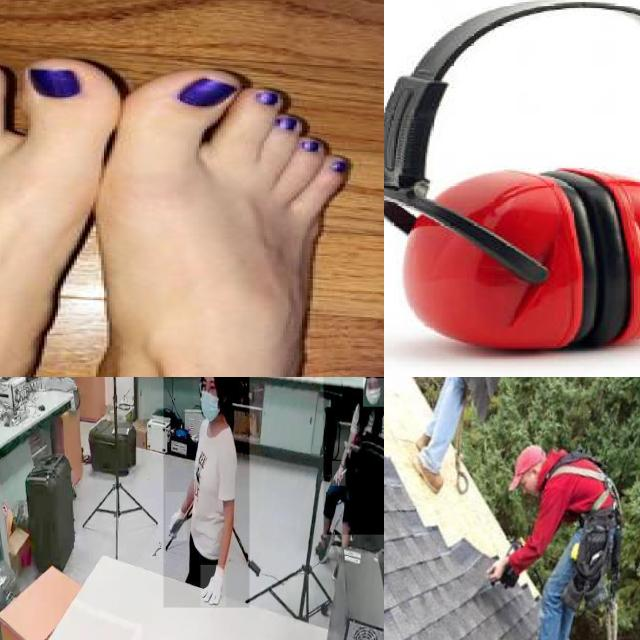Barefoots: (0, 57, 356, 377)
Ear-protection: (384, 0, 640, 354)
Harness: (554, 465, 619, 512)
face_mask: (193, 379, 220, 431), (363, 378, 384, 406)
glasses: (197, 378, 221, 398)
hand_glove: (165, 492, 188, 542), (200, 565, 227, 607)
hand_noglove: (332, 461, 346, 487)
person: (163, 377, 250, 608), (323, 377, 384, 535)
